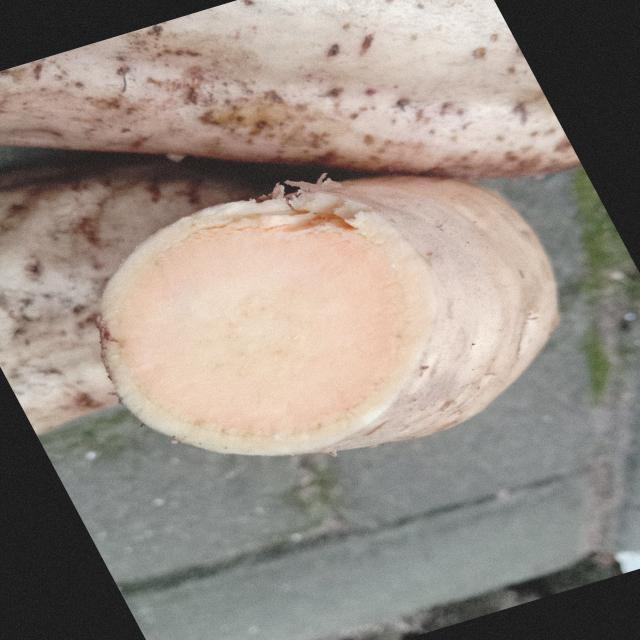Healthy Sweet Potato: (102, 191, 433, 455)
